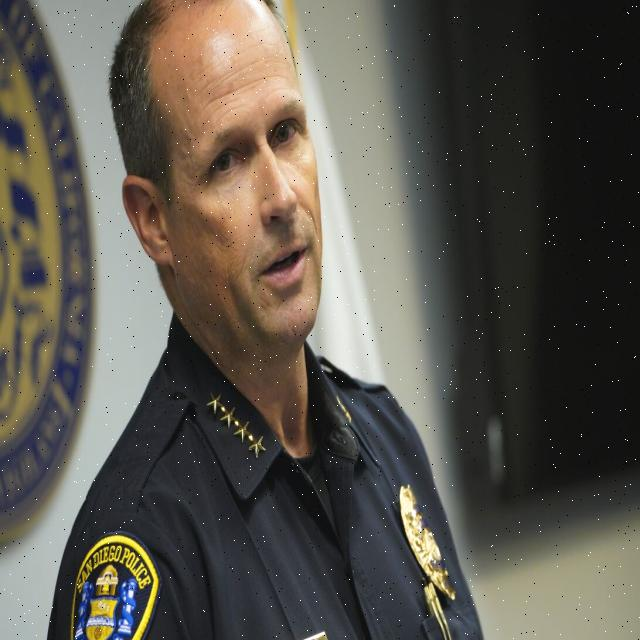police: (25, 0, 503, 640)
